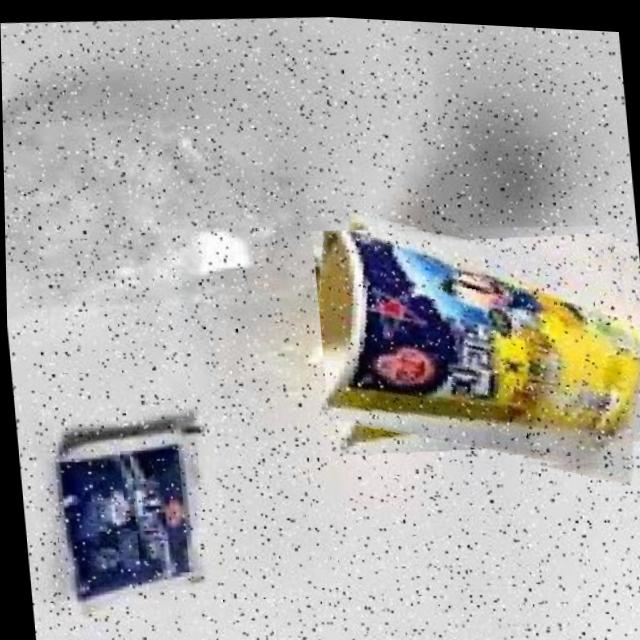Miscellaneous: (309, 204, 640, 484)
